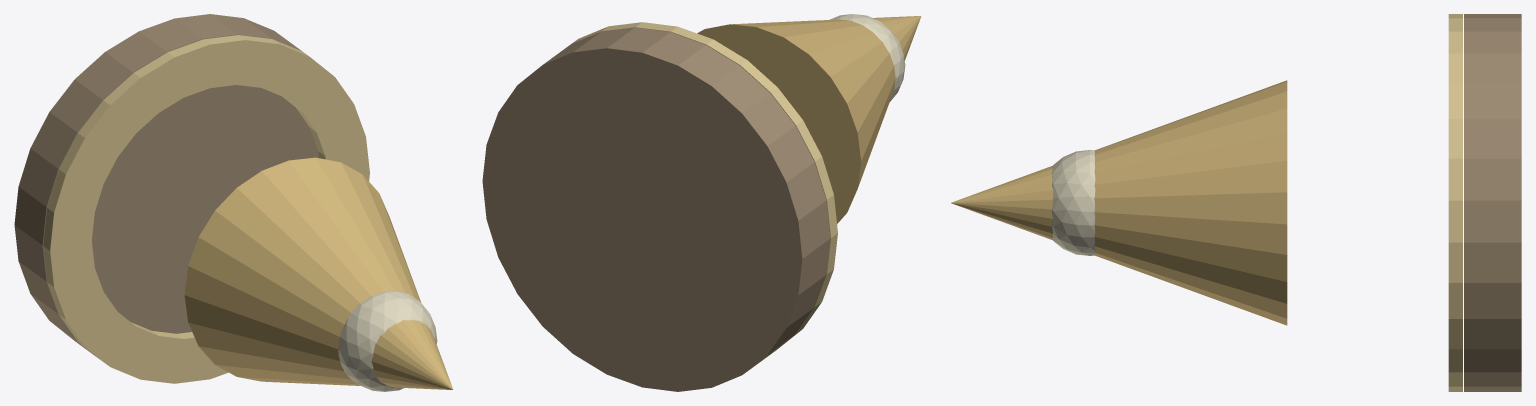
Rendered from event-marker-high.glb.
The picture shows the model from 3 angles, left to right: view 1: azimuth 30°, elevation 25°; view 2: azimuth 150°, elevation 25°; view 3: azimuth 270°, elevation 25°; orthographic projection. The views are drawn at different scales.
Parts seen in each view (by area): view 1: base, event, ring, orb; view 2: base, event, ring, orb; view 3: event, base, ring, orb.
Boxes of the visible parts, left/top/right/bottom form: base: left=14, top=14, right=318, bottom=358; event: left=184, top=157, right=453, bottom=389; ring: left=43, top=35, right=369, bottom=383; orb: left=338, top=290, right=437, bottom=391; base: left=482, top=27, right=830, bottom=391; event: left=697, top=16, right=921, bottom=223; ring: left=571, top=22, right=837, bottom=351; orb: left=829, top=14, right=905, bottom=101; event: left=951, top=80, right=1287, bottom=325; base: left=1464, top=14, right=1521, bottom=391; ring: left=1448, top=14, right=1462, bottom=391; orb: left=1052, top=150, right=1095, bottom=255.
Size of the model in its own units: 0.92 by 0.92 by 1.39.
